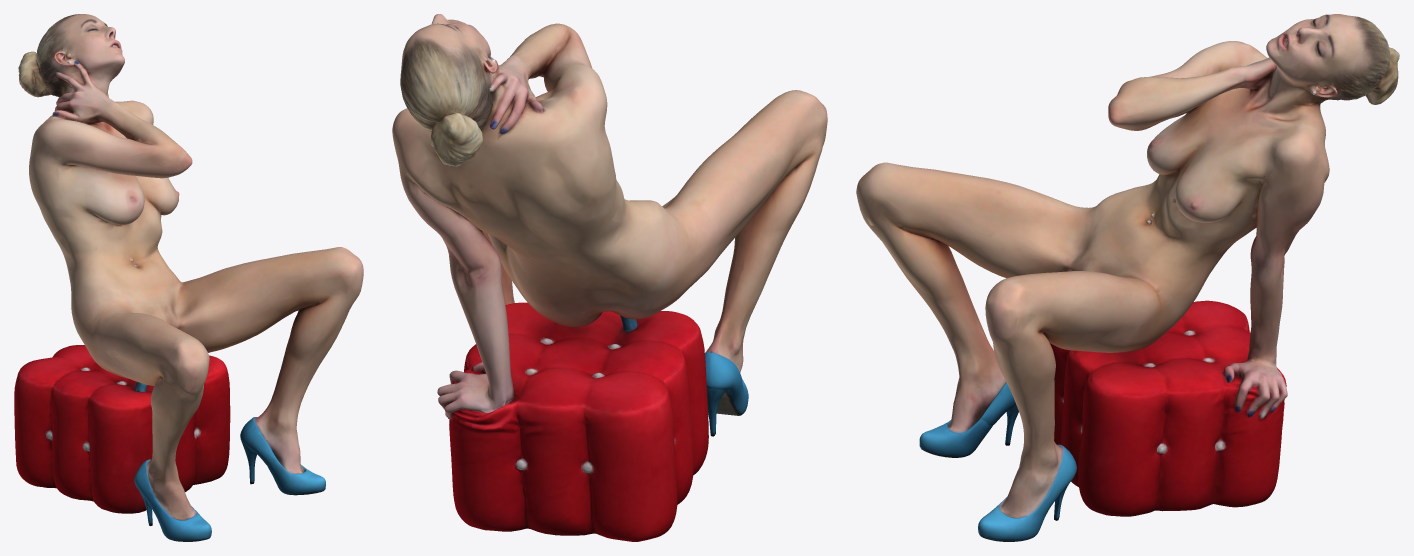
The model's file is nsC001xi.glb.
3 renders of one model, left to right at view 1: azimuth 30°, elevation 25°; view 2: azimuth 150°, elevation 25°; view 3: azimuth 270°, elevation 25°, orthographic. The views are drawn at different scales.
Parts seen in each view (by area): view 1: Atlas3.001; view 2: Atlas3.001; view 3: Atlas3.001.
Part boxes in pixels (box(x1,y1,x2,y2)): Atlas3.001: box(14, 14, 363, 541); Atlas3.001: box(392, 14, 827, 541); Atlas3.001: box(856, 14, 1399, 541).
Size of the model in its own units: 0.8137 by 1.19 by 1.22.
1 material, 1 textured.
